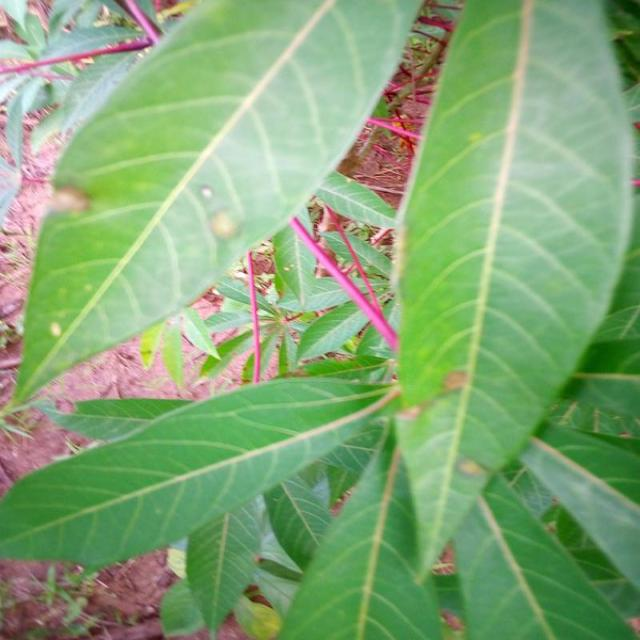cassava leaf: (1, 0, 636, 637), (10, 0, 425, 412), (390, 0, 634, 577), (0, 369, 402, 572)
